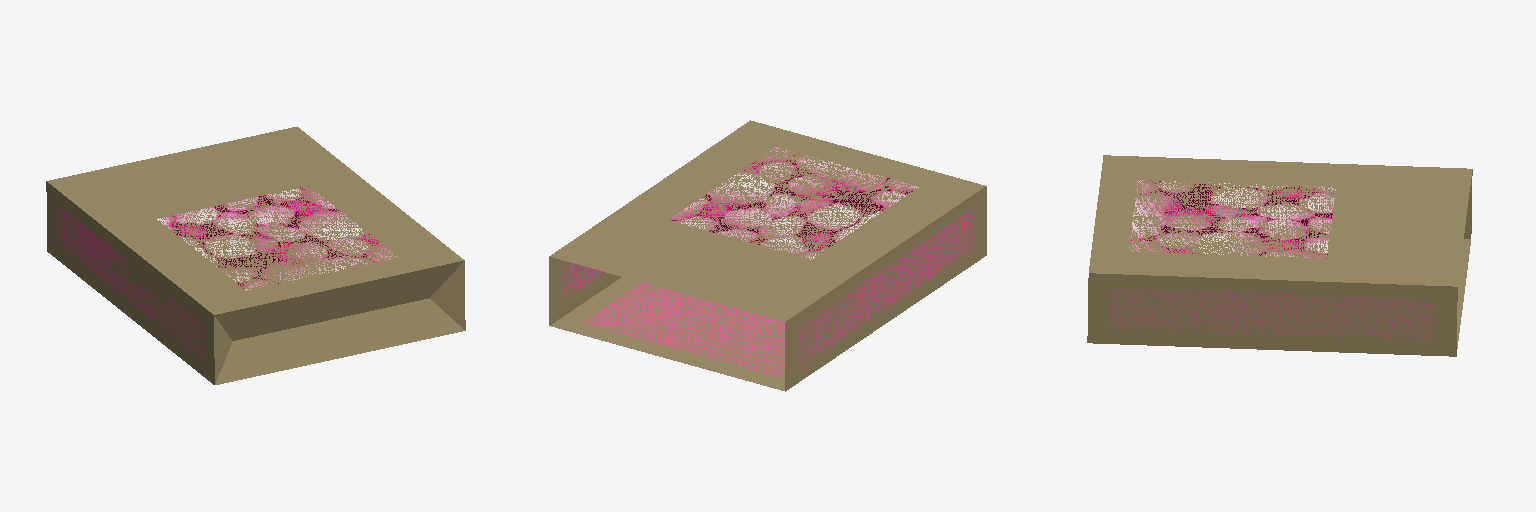
The picture shows the model from 3 angles: view 1: azimuth 30°, elevation 25°; view 2: azimuth 150°, elevation 25°; view 3: azimuth 270°, elevation 25°; orthographic projection.
Visible parts, largest first — view 1: instance_0_ID207, instance_0.001_ID213.001, instance_0.002_ID226; view 2: instance_0_ID207, instance_0.001_ID213.001, instance_0.004_ID238, instance_0.002_ID226, instance_0.003_ID232; view 3: instance_0_ID207, instance_0.001_ID213.001, instance_0.003_ID232.
Boxes of the visible parts, box(x1,y1,x2,y2) form: instance_0_ID207: box(46, 127, 465, 384); instance_0.001_ID213.001: box(157, 186, 398, 290); instance_0.002_ID226: box(57, 204, 204, 361); instance_0_ID207: box(549, 120, 986, 391); instance_0.001_ID213.001: box(669, 147, 918, 259); instance_0.004_ID238: box(582, 282, 784, 377); instance_0.002_ID226: box(798, 208, 975, 366); instance_0.003_ID232: box(562, 261, 604, 301); instance_0_ID207: box(1087, 155, 1472, 356); instance_0.001_ID213.001: box(1129, 180, 1335, 258); instance_0.003_ID232: box(1108, 288, 1433, 339).
Size of the model in its own units: 0.3461 by 0.0965 by 0.4433.
3 materials, 1 textured.